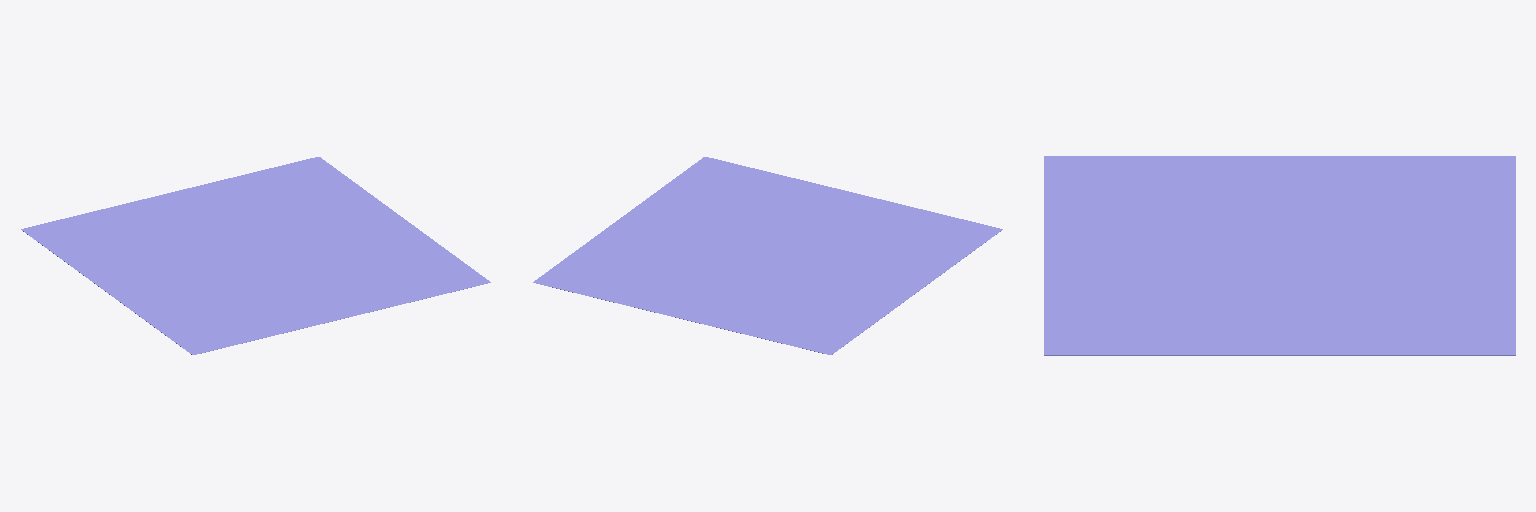
The robot description file, URDF, robot "simpleplane":
<?xml version="1.0"?>

<robot name="simpleplane">

    <material name="Light Blue"> 
        <color rgba="0.7 0.7 1 1"/>
    </material>

    <link name="base_link">
        <visual> 
            <geometry> 
                <box size="20 20 0.01"/>
                <origin rpy="0 0 0" xyz="-10 -10 -0.005"/>
            </geometry>
            <material name="Light Blue"/>
        </visual>
        <collision> 
             <geometry> 
                <box size="20 20 0.01"/>
                <origin rpy="0 0 0" xyz="-10 -10 -0.005"/>
            </geometry>
             <surface>
                <friction>
                    <ode>
                        <mu>0.6</mu>
                        <mu2>0.85</mu2>
                    </ode>
                </friction>
            </surface>
        </collision> 
        <inertial> 
            <mass value="0"/>
            <inertia ixx="0" ixy="0" ixz="0" iyy="0" iyz="0" izz="0"/>
        </inertial> 
        <contact> 
            <lateral_friction value="0.7"/>
        </contact>
    </link>
     
</robot>

--- What the picture shows (computed from the rendered views, not written in the file) ---
The picture shows the robot from 3 angles, left to right: view 1: azimuth 30°, elevation 25°; view 2: azimuth 150°, elevation 25°; view 3: azimuth 270°, elevation 25°; orthographic projection.
Robot: simpleplane — 1 links, 0 joints (none); root link base_link; default pose: every joint at zero.
Links seen in each view (by area): view 1: base_link; view 2: base_link; view 3: base_link.
Link boxes in pixels (x1=…): base_link: x1=21, y1=157, x2=490, y2=354; base_link: x1=533, y1=157, x2=1002, y2=354; base_link: x1=1044, y1=156, x2=1515, y2=355.
Size in the robot's own frame: 20 by 20 by 0.01 metres.
Geometry: primitives only (box / cylinder / sphere), no mesh files.
